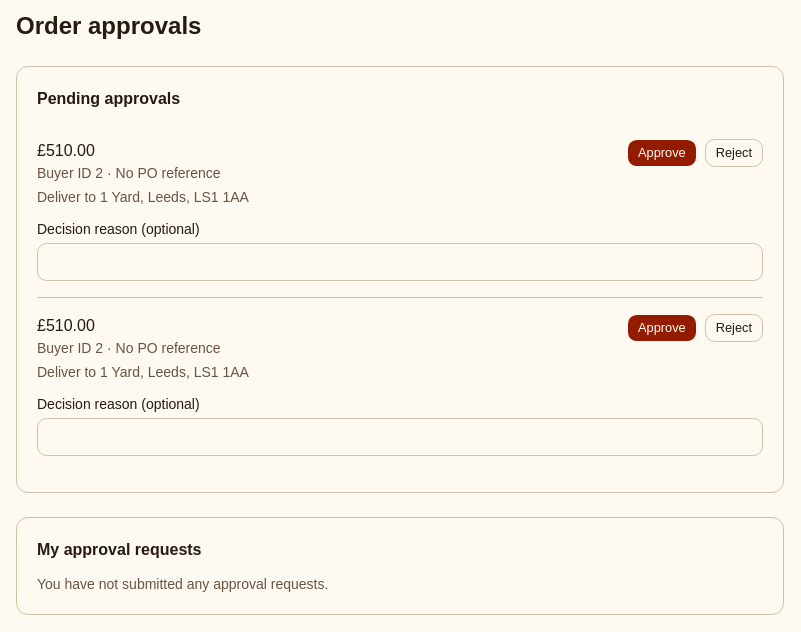
Scenario: ApprovalsPage request ordering › ignores an older decision reload after a newer reload completes
Click the 1st button "Approve" at (662, 153), box left=627, top=139, right=697, bottom=167
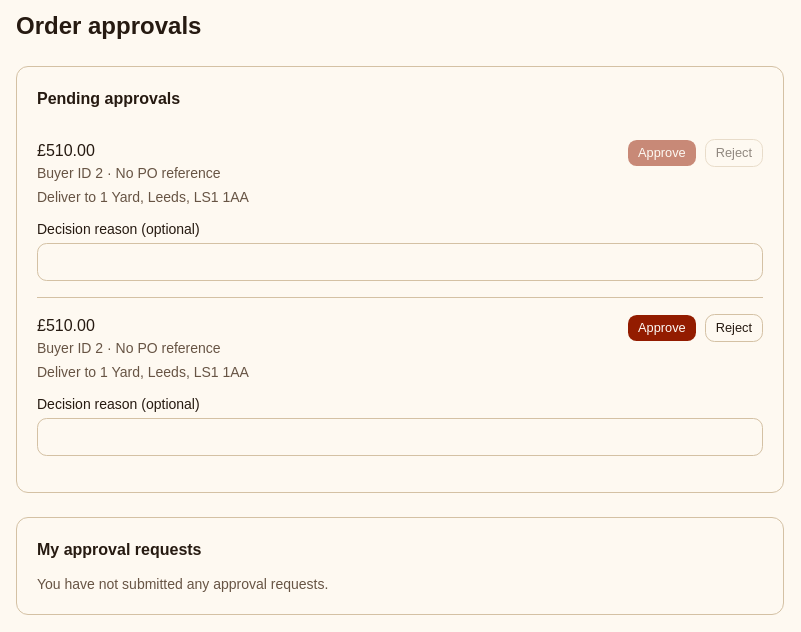
Click the 2nd button "Approve" at (662, 328), box left=627, top=314, right=697, bottom=342
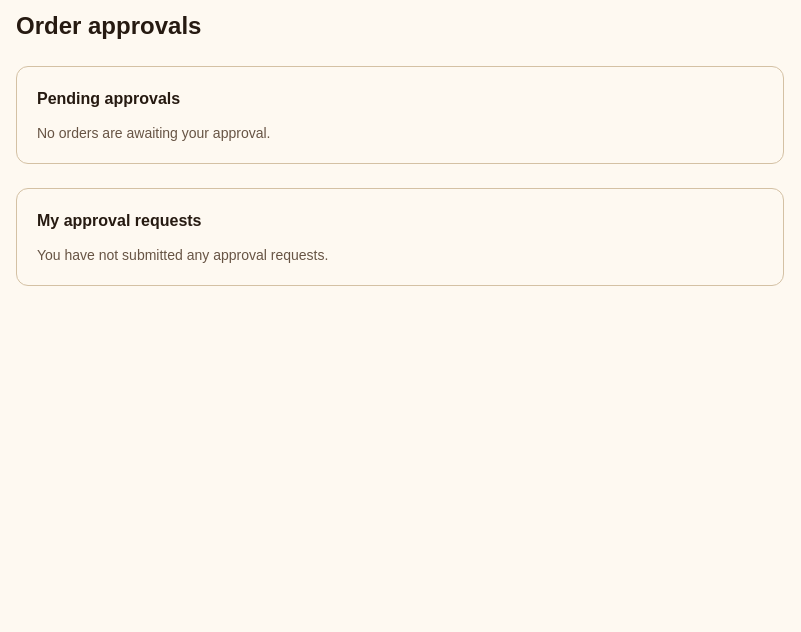
Now the text "No orders are awaiting your approval." is shown, box left=37, top=125, right=270, bottom=141
